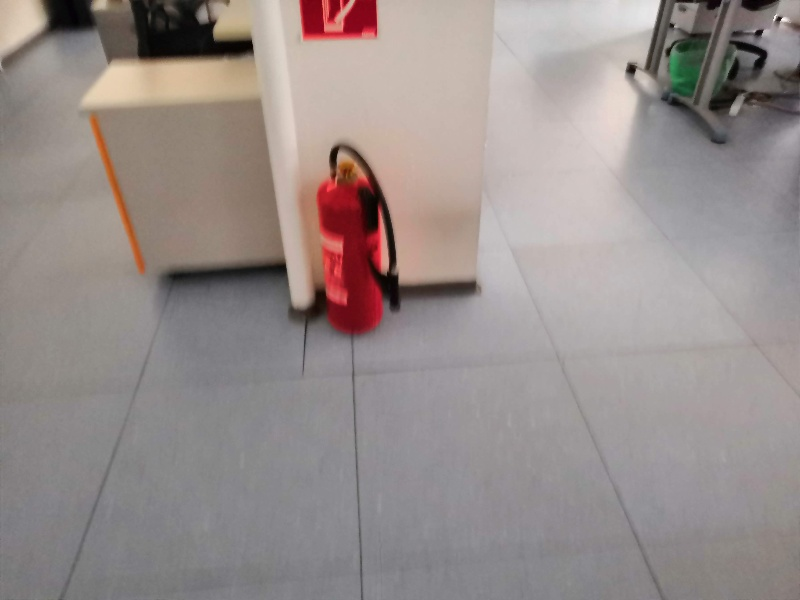vataparat: (316, 145, 401, 335)
